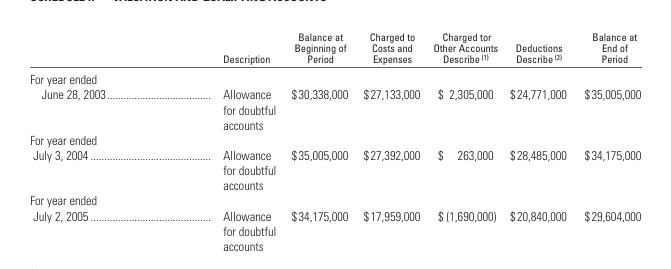table: (29, 29, 640, 237)
table column: (29, 29, 163, 237), (163, 29, 282, 237), (425, 29, 503, 237), (282, 29, 354, 237), (354, 29, 425, 237), (503, 29, 574, 237), (574, 29, 640, 237)
table column header: (29, 29, 640, 67)
table row: (29, 67, 640, 131), (29, 131, 640, 192), (29, 192, 640, 237), (29, 29, 640, 67)
